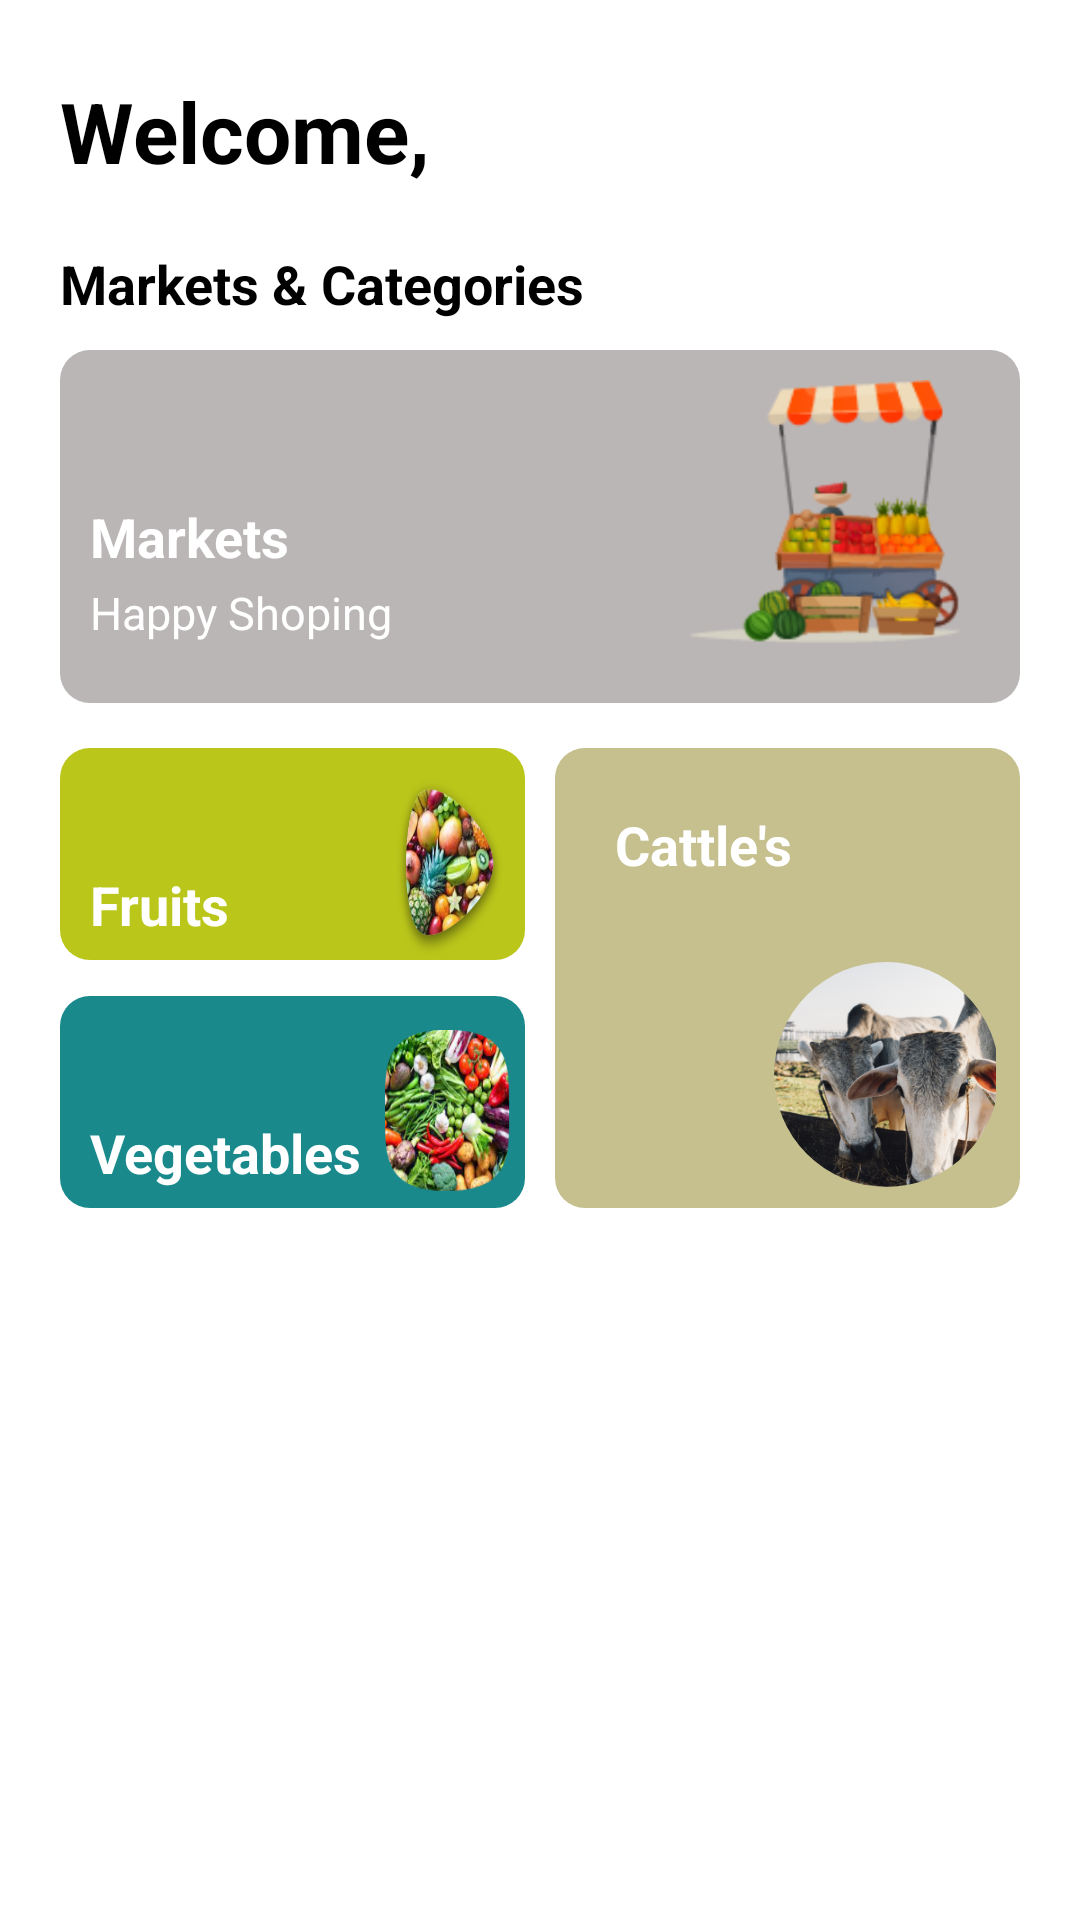

Named icons in this screenshot (1080w x 1920h) and their centers, (x=x, y=y):
fruit: (x=449, y=867)
veg: (x=447, y=1110)
